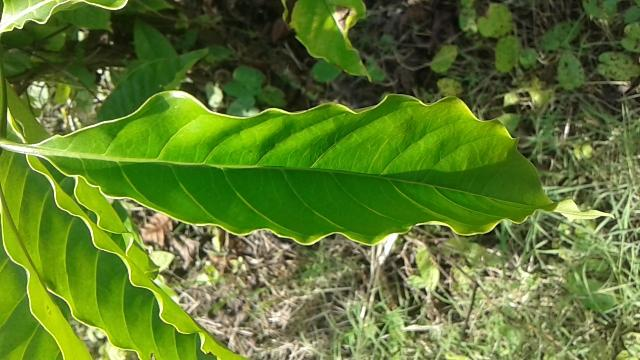healthy: (34, 88, 620, 248)
